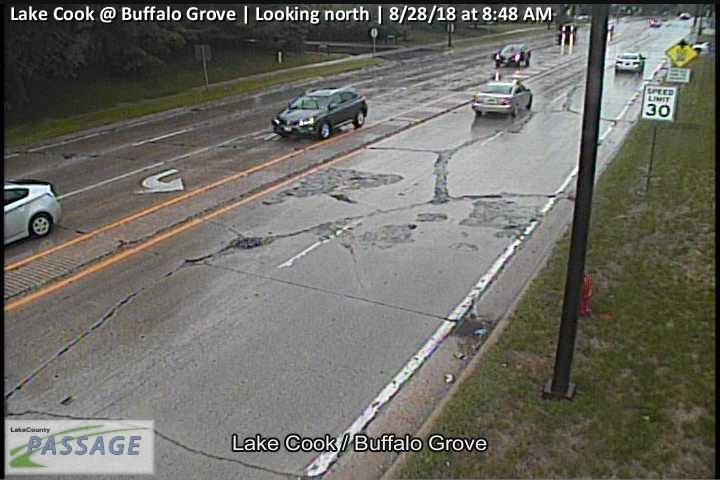SUV: (271, 87, 368, 139), (493, 44, 531, 66)
Sedan: (473, 78, 533, 117), (616, 52, 646, 75)
